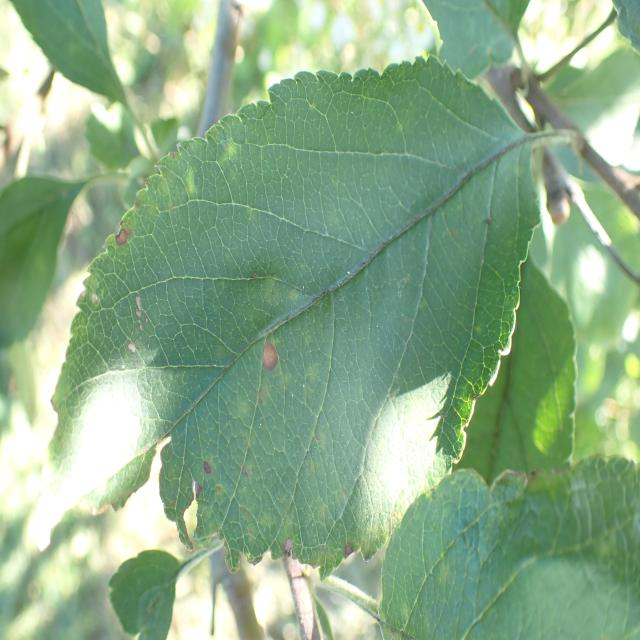frog-eye-leaf-spot: (43, 56, 544, 582)
